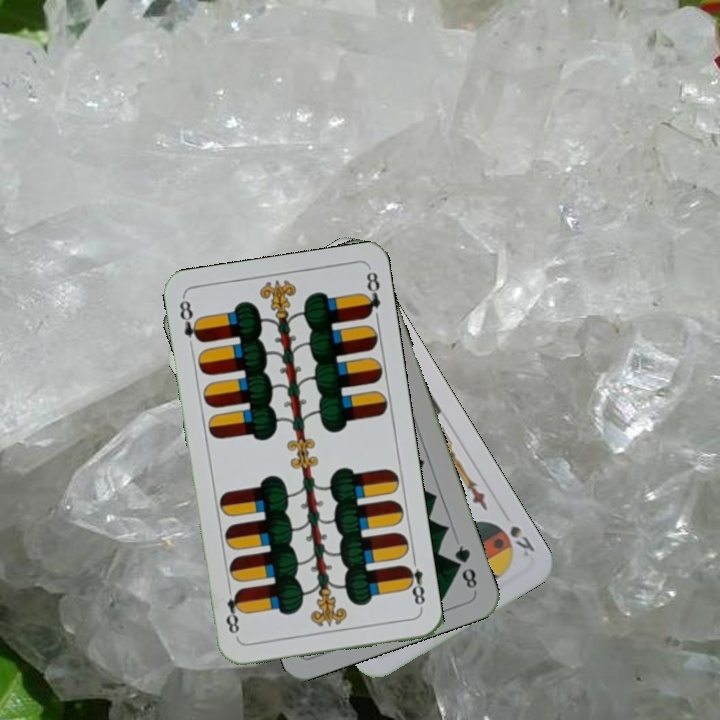E8: (399, 553, 428, 612), (175, 296, 205, 345)
G8: (450, 541, 480, 592)
SK: (505, 521, 538, 560)
